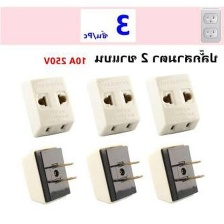three_eye_plug: (84, 139, 145, 205), (20, 72, 79, 140), (145, 141, 208, 203), (19, 146, 84, 206), (85, 72, 143, 136), (144, 71, 202, 135)
